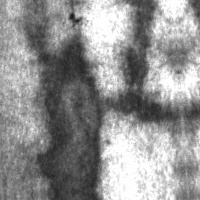patches: (26, 31, 113, 194), (102, 0, 182, 126)
